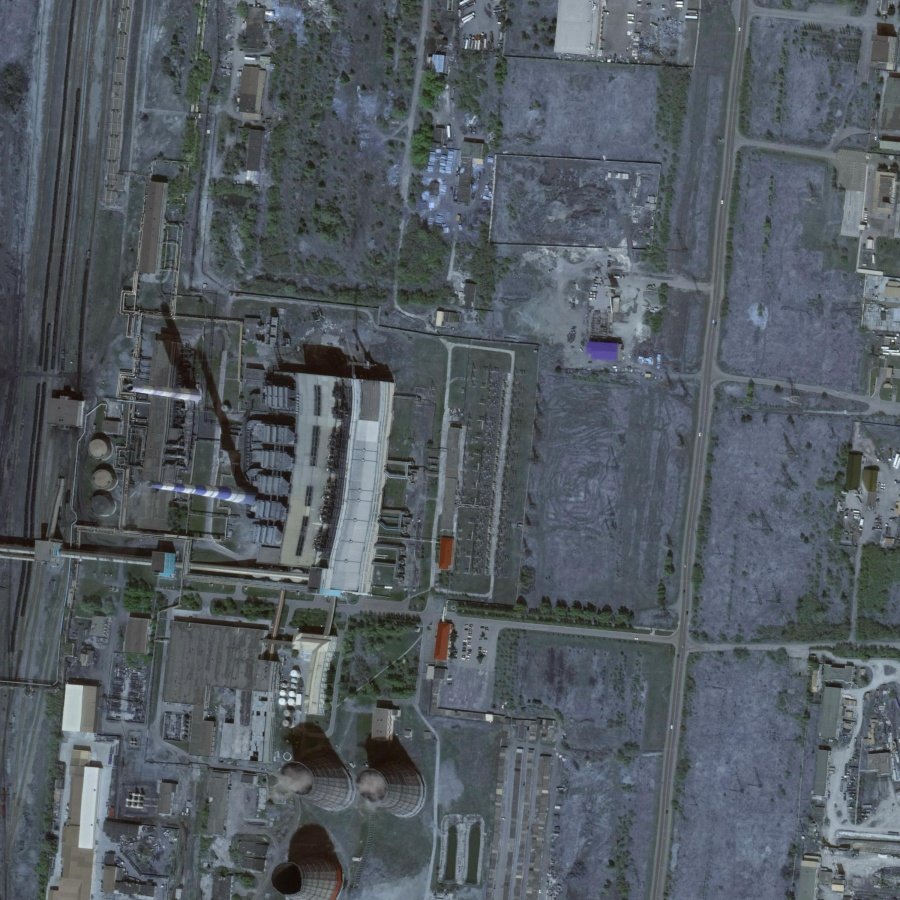PowerPlant: (107, 291, 296, 553)
